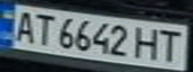2: (109, 21, 133, 59)
4: (90, 20, 112, 56)
6: (54, 16, 78, 50), (72, 18, 93, 53)
A: (9, 8, 39, 44)
H: (133, 25, 163, 61)
T: (154, 27, 187, 62), (30, 12, 57, 46)
